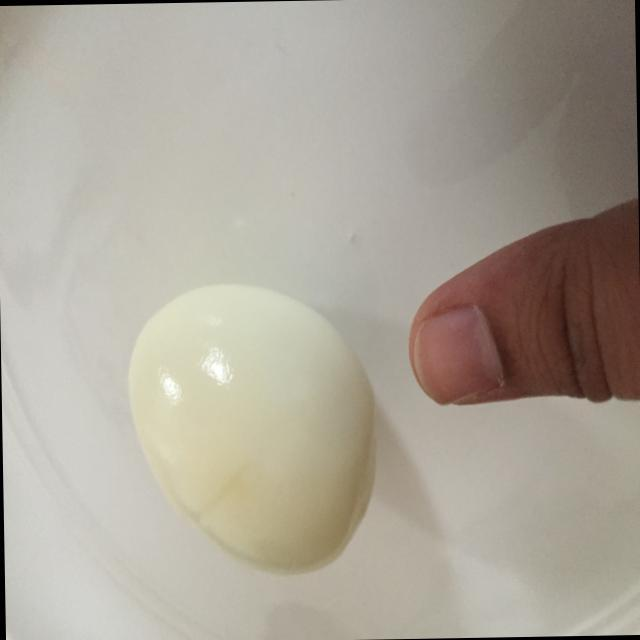Egg: (110, 273, 390, 582)
Finger: (397, 216, 628, 416)
